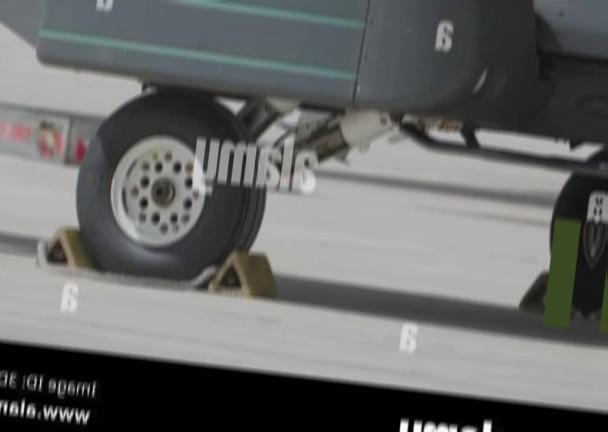chock: (33, 223, 109, 279), (209, 247, 284, 299), (518, 267, 587, 318)
wheel: (70, 79, 278, 289), (540, 163, 603, 312), (589, 169, 608, 318)
